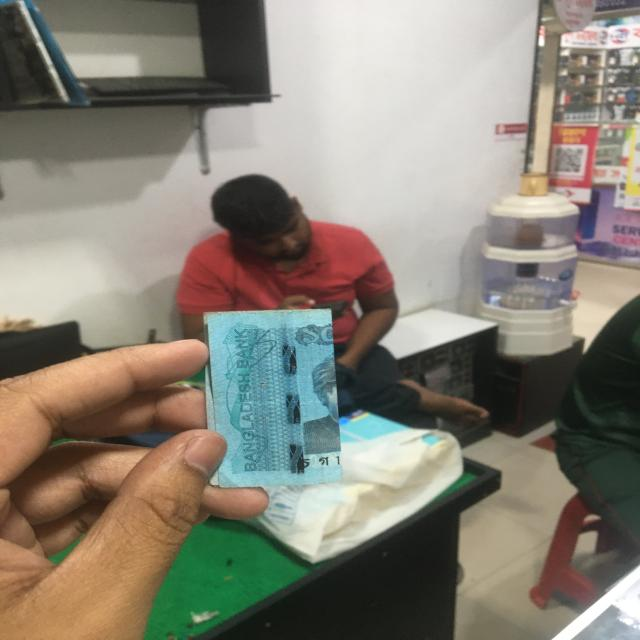Taka: (204, 310, 354, 490)
